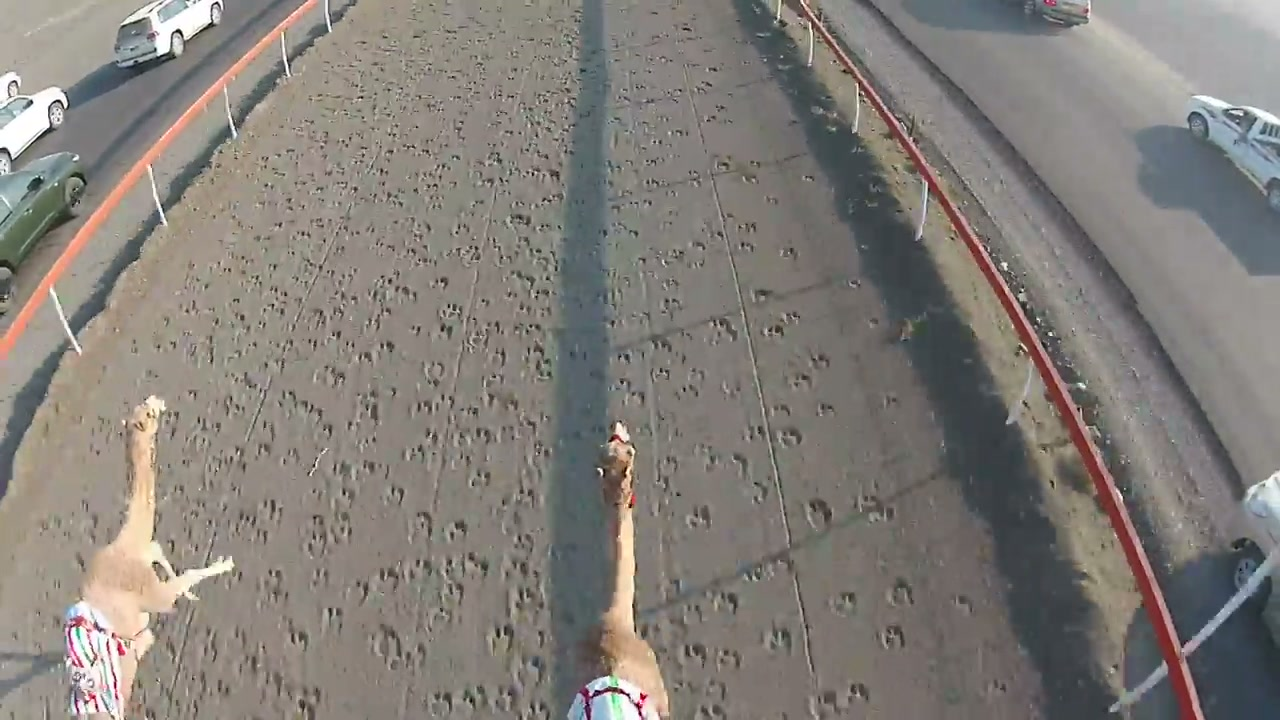animal_foot_print: (191, 4, 539, 708), (624, 27, 913, 719)
